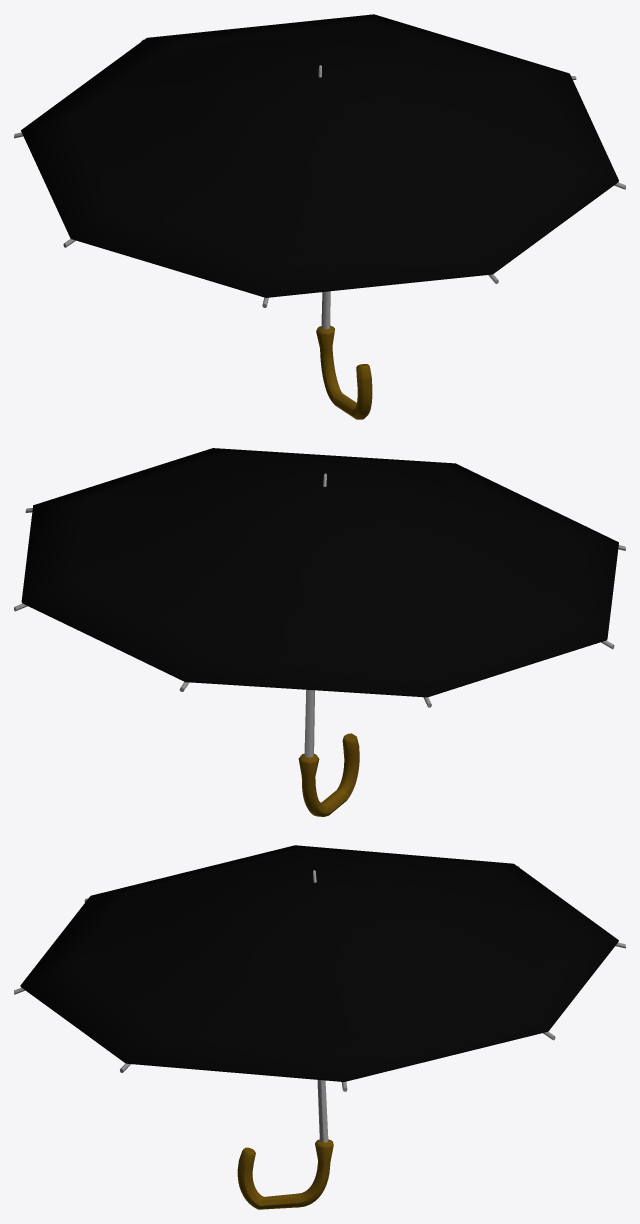
The model's file is umblleraopen.fbx.
3 renders of one model, top to bottom at view 1: azimuth 30°, elevation 25°; view 2: azimuth 150°, elevation 25°; view 3: azimuth 270°, elevation 25°, orthographic. The views are drawn at different scales.
Parts seen in each view (by area): view 1: UmbrellaOpen; view 2: UmbrellaOpen; view 3: UmbrellaOpen.
Boxes of the visible parts, left/top/right/bottom form: UmbrellaOpen: left=14, top=14, right=625, bottom=419; UmbrellaOpen: left=14, top=448, right=625, bottom=816; UmbrellaOpen: left=14, top=845, right=625, bottom=1209.
Bounding box in the file's own units: 33.41 × 20.08 × 33.4.
Materials: 1 (1 with a texture image).
